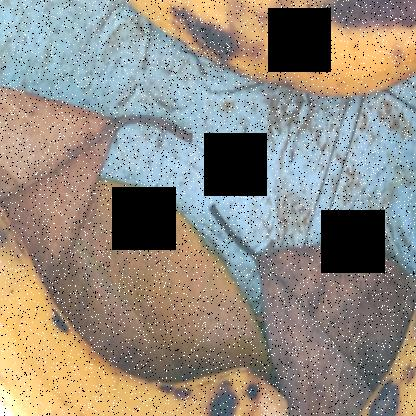overripe: (114, 3, 416, 117)
ripe: (1, 179, 296, 416)
